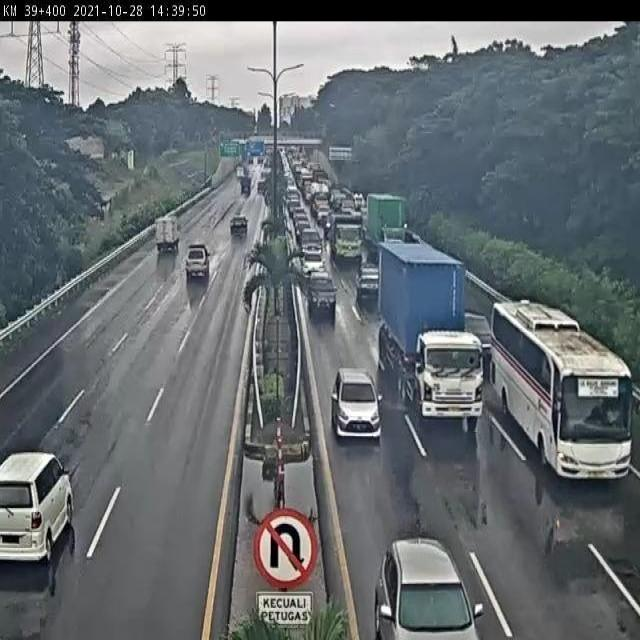Bus: (489, 299, 632, 478)
Car: (373, 535, 486, 637), (1, 451, 75, 564), (331, 367, 382, 440), (306, 270, 337, 320), (355, 260, 379, 306), (185, 244, 210, 279), (302, 251, 324, 276)
Truck: (379, 236, 482, 430), (367, 192, 408, 257), (332, 221, 364, 267), (156, 220, 180, 256)
